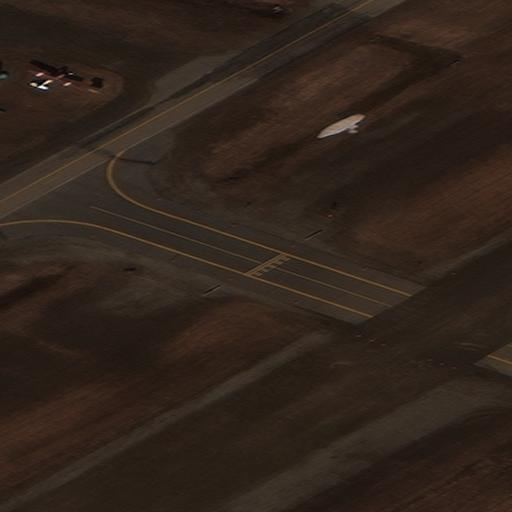Small Civil Transport: (28, 69, 79, 89)
